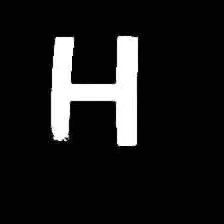LTR_H: (38, 25, 148, 162)
